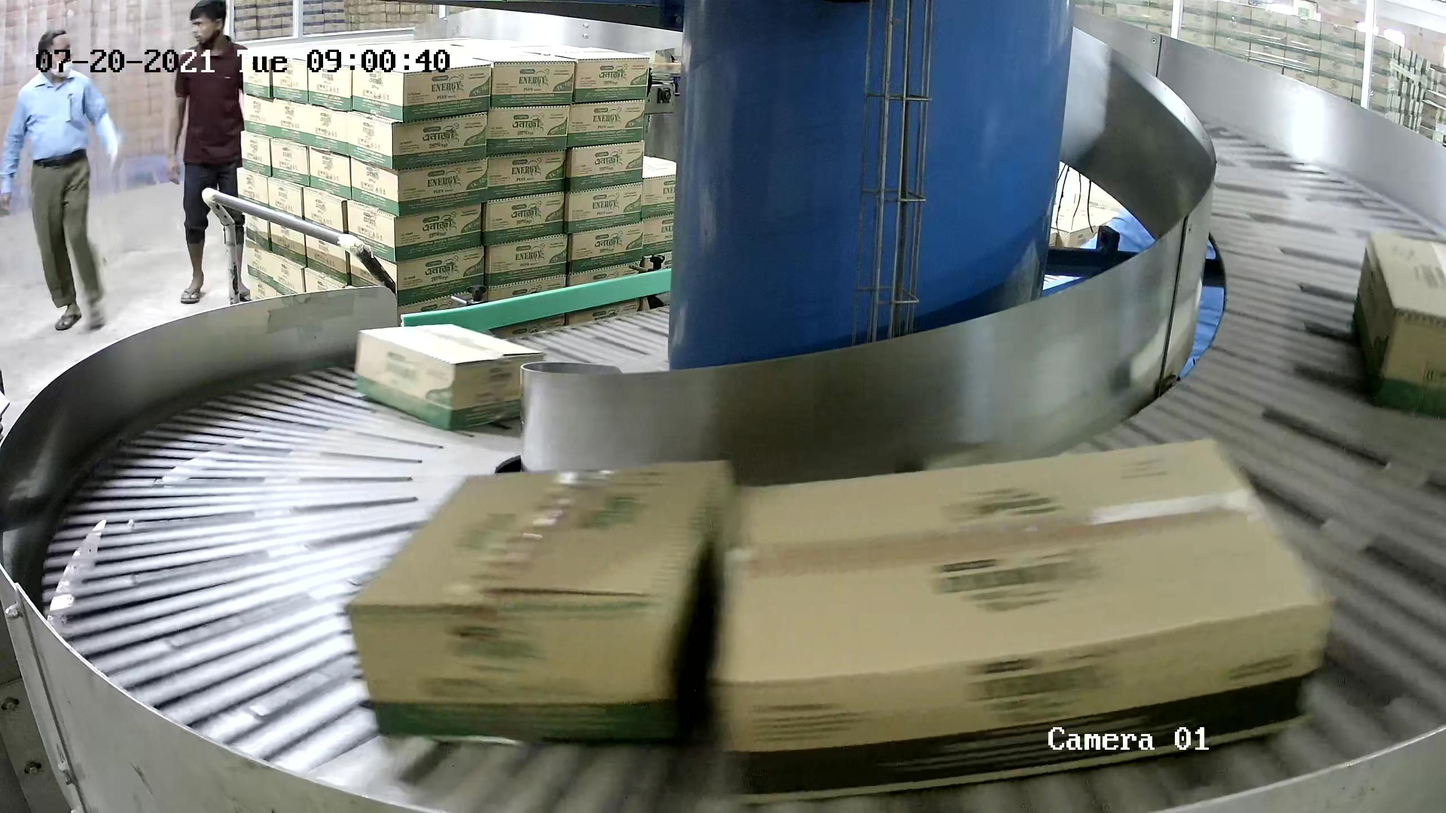Box: (706, 429, 1329, 809), (341, 457, 734, 744), (353, 321, 549, 433), (1352, 230, 1446, 419)
